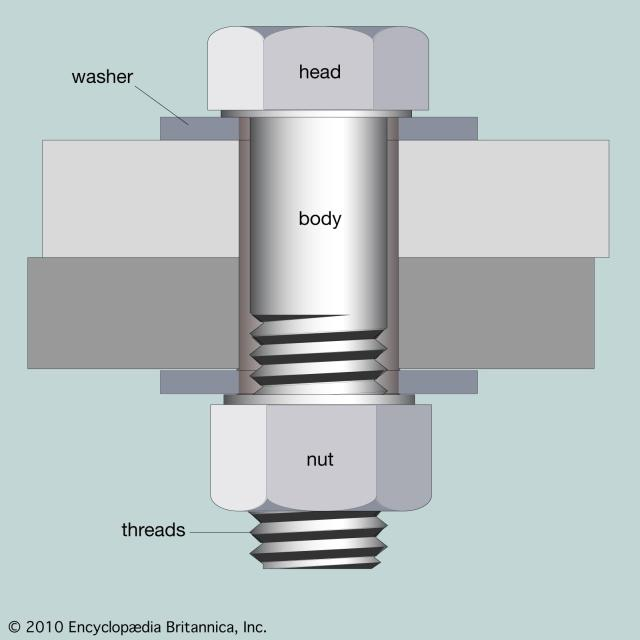Bolt: (202, 21, 433, 572)
Nut: (202, 400, 437, 516)
